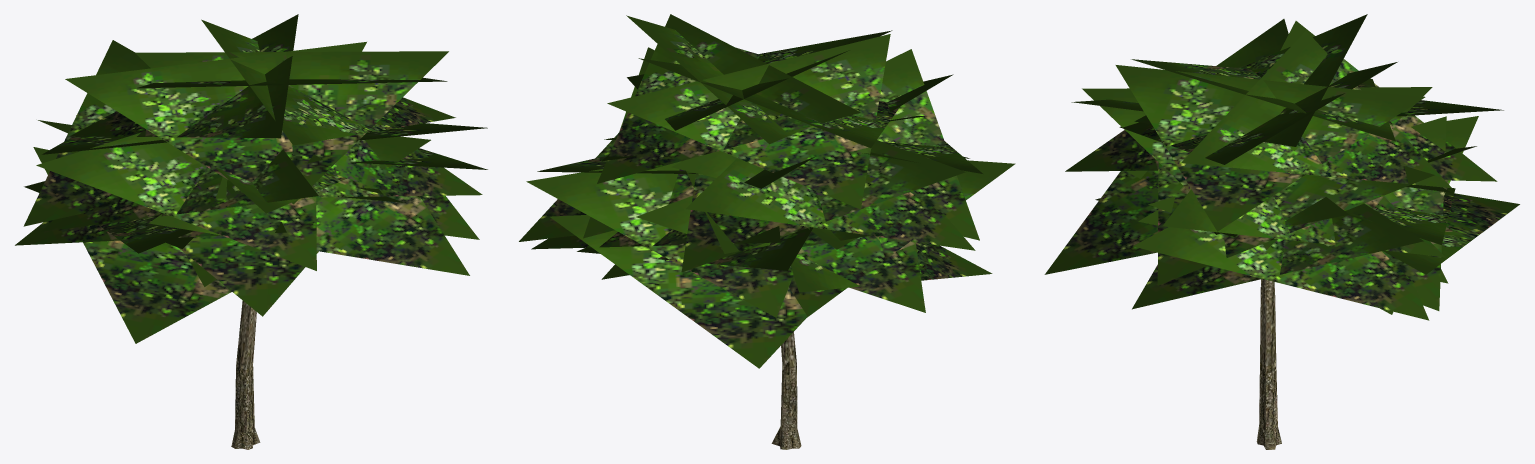
Rendered from 0ad-ancient.e6baf49b607c.tropical-tree.glb.
3 renders of one model, left to right at view 1: azimuth 30°, elevation 25°; view 2: azimuth 150°, elevation 25°; view 3: azimuth 270°, elevation 25°, orthographic.
Parts seen in each view (by area): view 1: flora/trees/tree_tropic.xml; view 2: flora/trees/tree_tropic.xml; view 3: flora/trees/tree_tropic.xml.
Boxes of the visible parts, box(x1,y1,x2,y2) form: flora/trees/tree_tropic.xml: box(15, 14, 487, 449); flora/trees/tree_tropic.xml: box(519, 14, 1015, 449); flora/trees/tree_tropic.xml: box(1044, 14, 1519, 449).
Size of the model in its own units: 25.44 by 22.44 by 26.32.
Materials: 1 (1 with a texture image).
